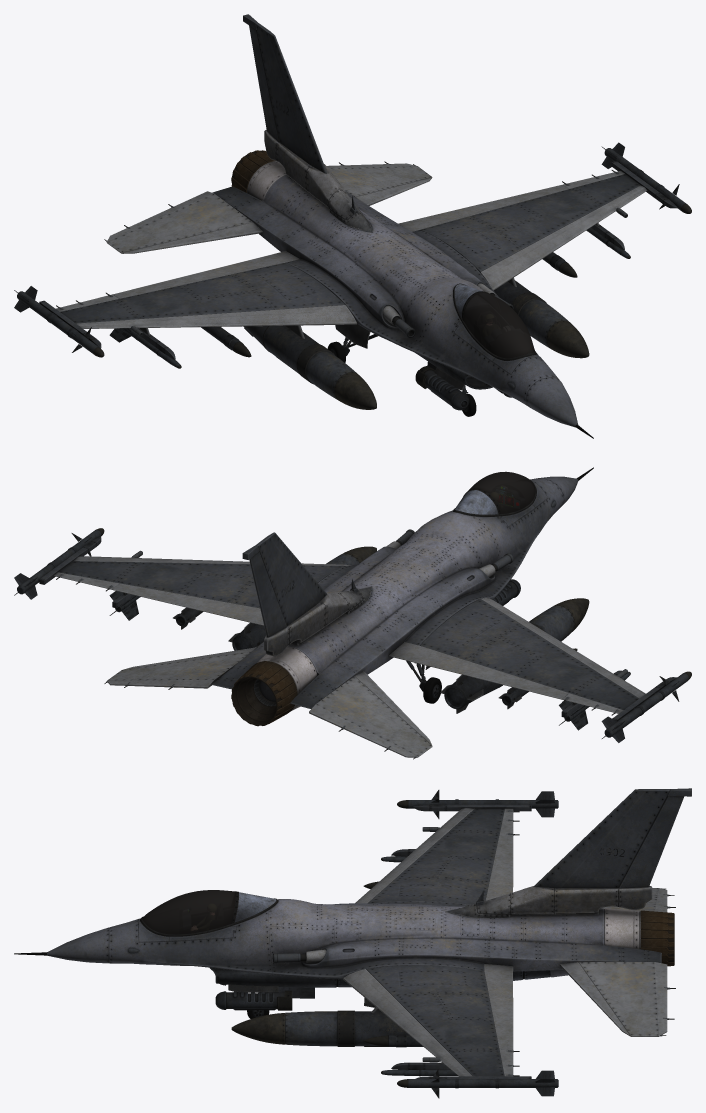
Rendered from jet.glb.
3 views of the same model, one above another, from view 1: azimuth 30°, elevation 25°; view 2: azimuth 150°, elevation 25°; view 3: azimuth 270°, elevation 25° (orthographic). The views are drawn at different scales.
Parts seen in each view (by area): view 1: part_b.11, part_a.10, missiles_big_r.20, glass.27, missiles_big_l.15, missiles_mid_r2.17, missiles_mid_l2.14; view 2: part_b.11, part_a.10, missiles_big_r.20, glass.27, missiles_mid_r2.17, missiles_big_l.15, missiles_mid_l2.14, missiles_mid_r1.18; view 3: part_b.11, part_a.10, missiles_big_l.15, glass.27, missiles_mid_l2.14, missiles_mid_r2.17, missiles_mid_l.16.
Part boxes in pixels (x1,y1,x2,y2): part_b.11: (39,14,677,438); part_a.10: (139,129,599,410); missiles_big_r.20: (243,325,376,409); glass.27: (463,292,535,358); missiles_big_l.15: (494,280,589,358); missiles_mid_r2.17: (14,286,104,357); missiles_mid_l2.14: (601,142,691,213); part_b.11: (39,467,676,759); part_a.10: (123,490,575,704); missiles_big_r.20: (440,598,589,713); glass.27: (468,471,535,513); missiles_mid_r2.17: (601,671,691,742); missiles_big_l.15: (228,546,376,650); missiles_mid_l2.14: (14,528,104,599); missiles_mid_r1.18: (559,671,630,730); part_b.11: (14,788,691,1078); part_a.10: (210,885,652,1063); missiles_big_l.15: (231,1010,409,1046); glass.27: (142,890,235,934); missiles_mid_l2.14: (397,1068,558,1098); missiles_mid_r2.17: (397,790,558,818); missiles_mid_l.16: (364,1034,423,1047).
Size of the model in its own units: 13.74 by 5.16 by 13.63.
6 materials, 6 textured.
